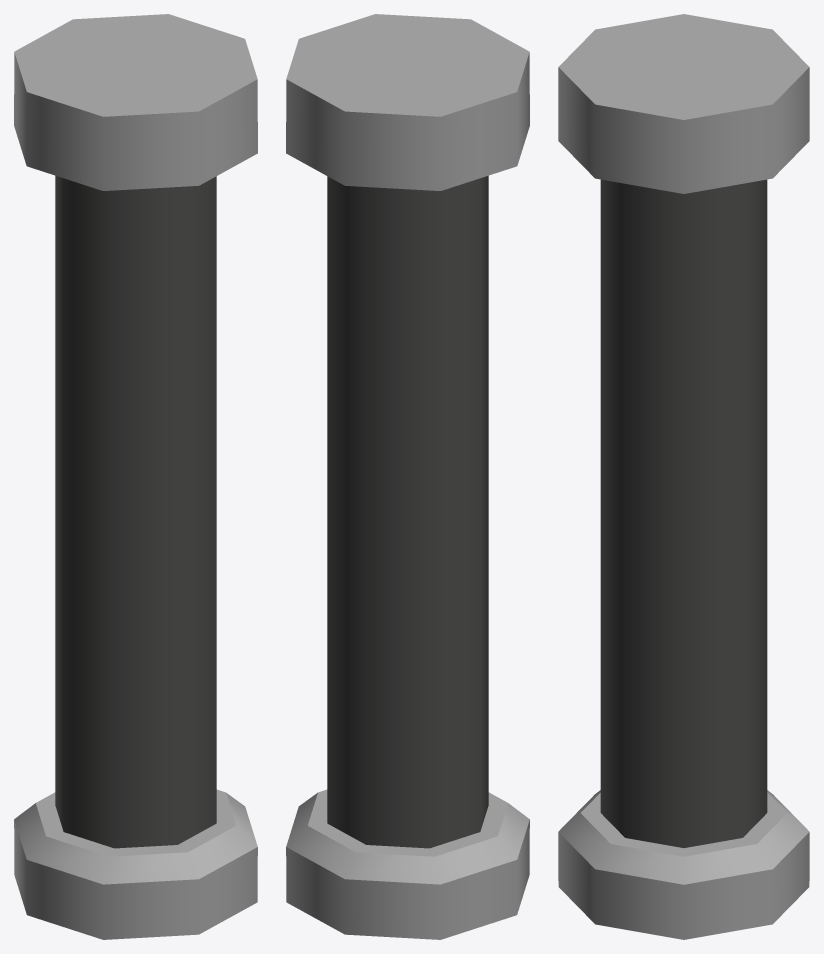
Rendered from Column.fbx.
3 renders of one model, left to right at view 1: azimuth 30°, elevation 25°; view 2: azimuth 150°, elevation 25°; view 3: azimuth 270°, elevation 25°, orthographic.
Visible parts, largest first — view 1: Pillar; view 2: Pillar; view 3: Pillar.
Boxes of the visible parts, box(x1,y1,x2,y2) form: Pillar: box(14, 14, 257, 939); Pillar: box(286, 14, 529, 939); Pillar: box(558, 14, 809, 939).
Size of the model in its own units: 88.89 by 320 by 88.89.
